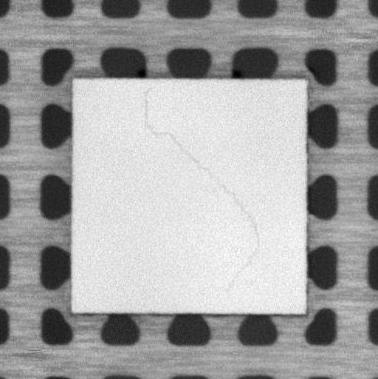DIE_CRACK: (142, 86, 261, 294)
